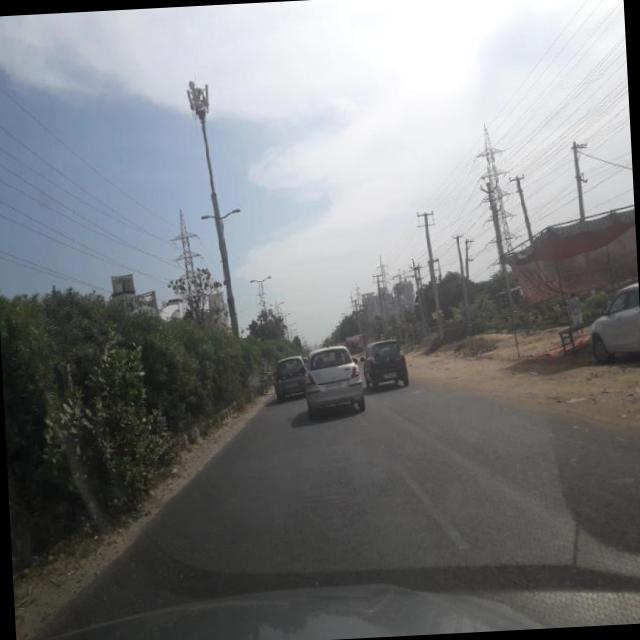crack: (75, 407, 640, 608)
